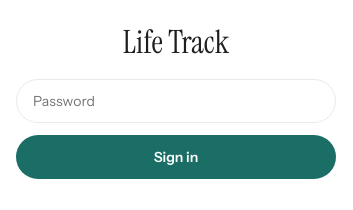
Scenario: Login screen › wrong password shows error and does not navigate
This screenshot has width=353, height=210.
In the password field with placeholder "Password": [176, 101] box [16,79,336,123], type "wrongpassword"
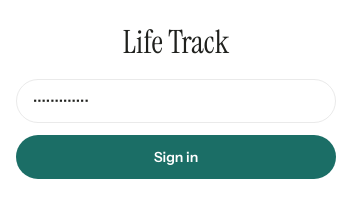
Click the button "Sign in": [176, 157] box [16,135,336,179]
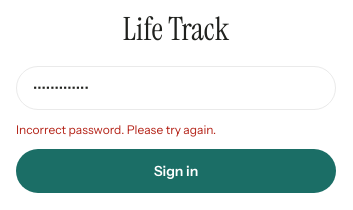
Expected: the message shows "Incorrect password", [16,122,216,136]
